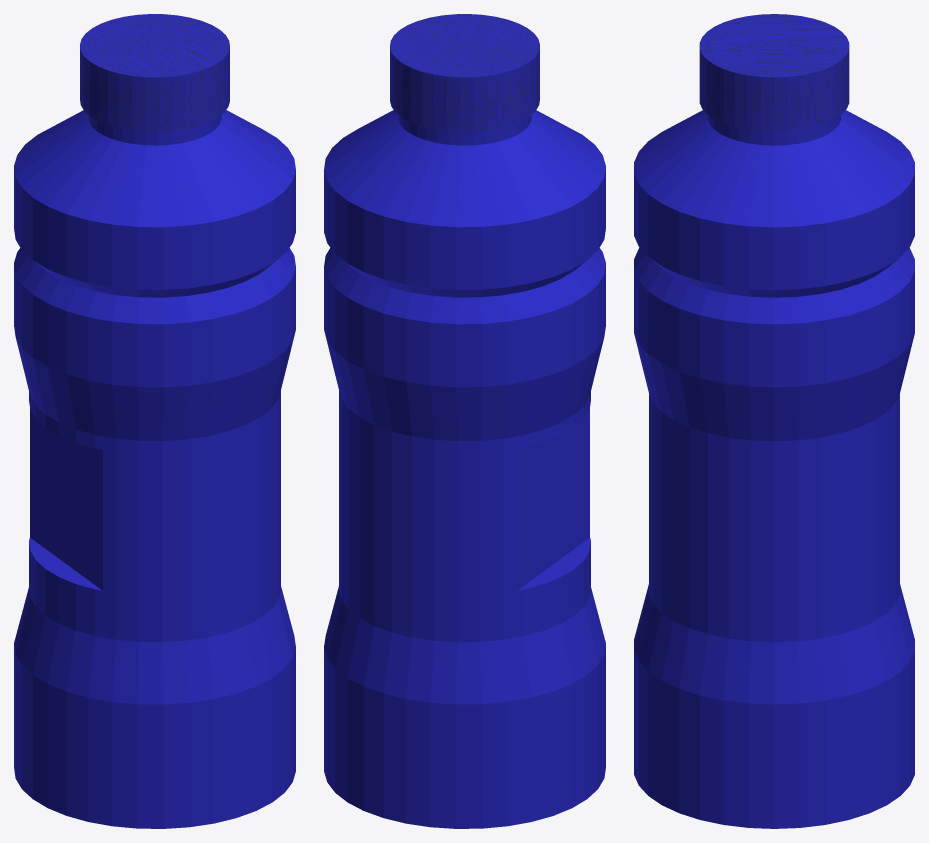
The picture shows the model from 3 angles, left to right: view 1: azimuth 30°, elevation 25°; view 2: azimuth 150°, elevation 25°; view 3: azimuth 270°, elevation 25°; orthographic projection.
Visible parts, largest first — view 1: mesh1_mesh1-geometry; view 2: mesh1_mesh1-geometry; view 3: mesh1_mesh1-geometry.
Boxes of the visible parts, x1=… form: mesh1_mesh1-geometry: x1=14, y1=14, x2=295, y2=828; mesh1_mesh1-geometry: x1=324, y1=14, x2=605, y2=828; mesh1_mesh1-geometry: x1=634, y1=14, x2=914, y2=828.
Bounding box in the file's own units: 0.3161 × 0.895 × 0.3148.
